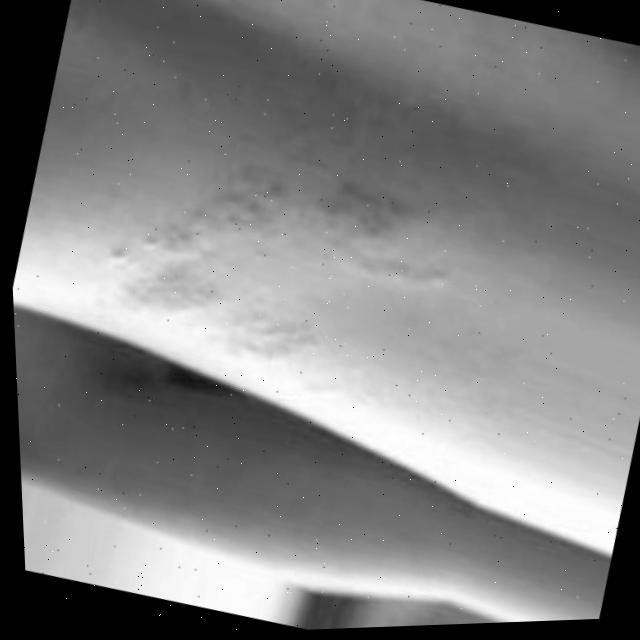Shingles: (124, 136, 423, 371)
